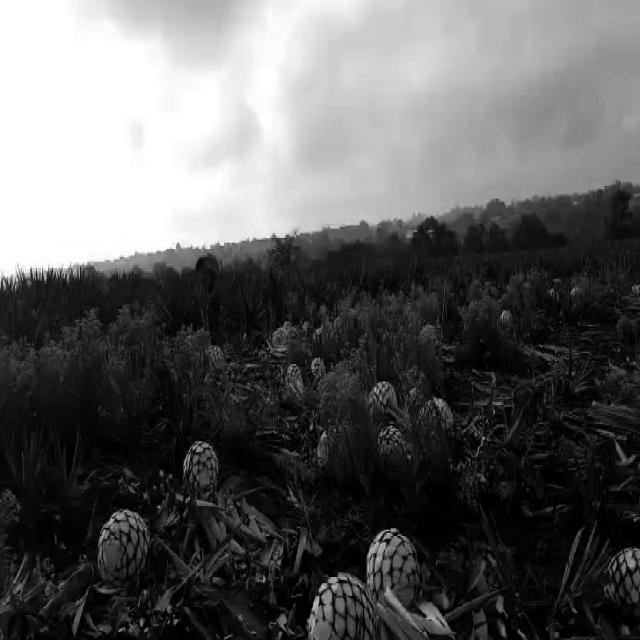agave: (306, 570, 377, 640), (93, 502, 150, 585), (366, 530, 420, 605), (602, 542, 640, 620), (181, 437, 221, 509), (368, 378, 401, 423), (379, 419, 408, 468), (202, 344, 225, 381), (283, 360, 306, 395), (308, 355, 326, 378)
